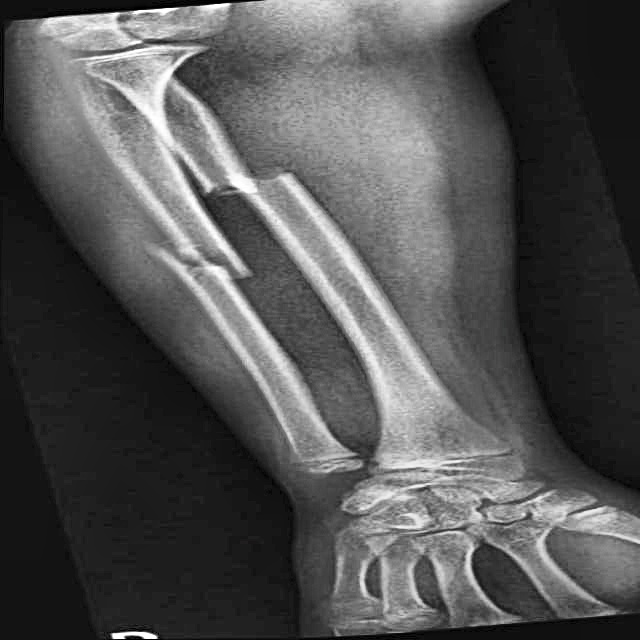Oblique Displaced: (131, 222, 260, 303)
Transverse: (181, 153, 324, 213)
